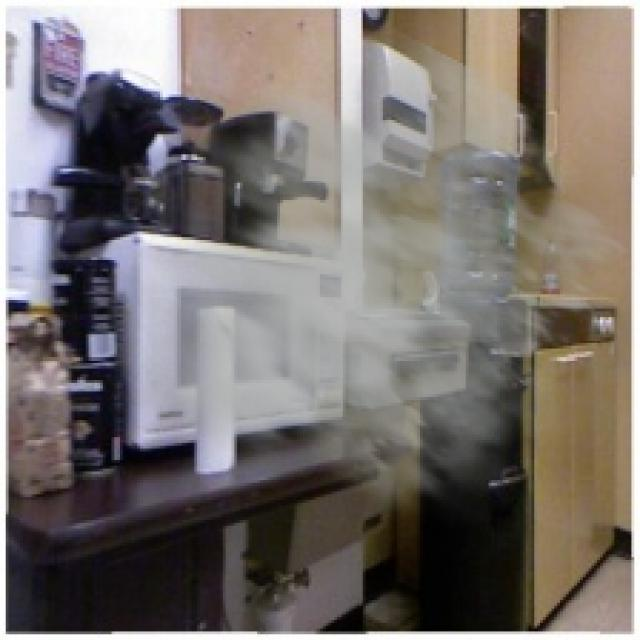smoke: (80, 14, 631, 534)
